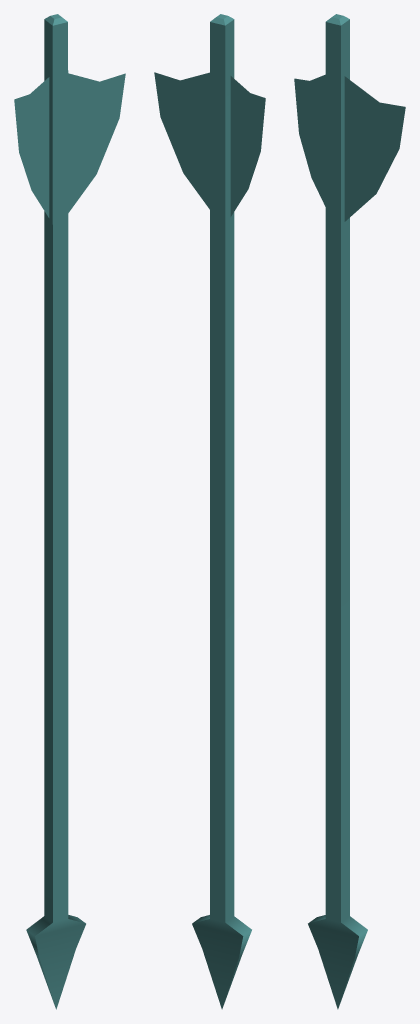
Rendered from Arrow_3.fbx.
3 views of the same model, side by side, from view 1: azimuth 30°, elevation 25°; view 2: azimuth 150°, elevation 25°; view 3: azimuth 330°, elevation 25° (orthographic).
Parts seen in each view (by area): view 1: S3; view 2: S3; view 3: S3.
Boxes of the visible parts, <box> form: S3: <box>14,14,125,1009</box>; S3: <box>154,14,265,1009</box>; S3: <box>294,14,405,1009</box>.
Bounding box in the file's own units: 17.22 × 146 × 2.37.
